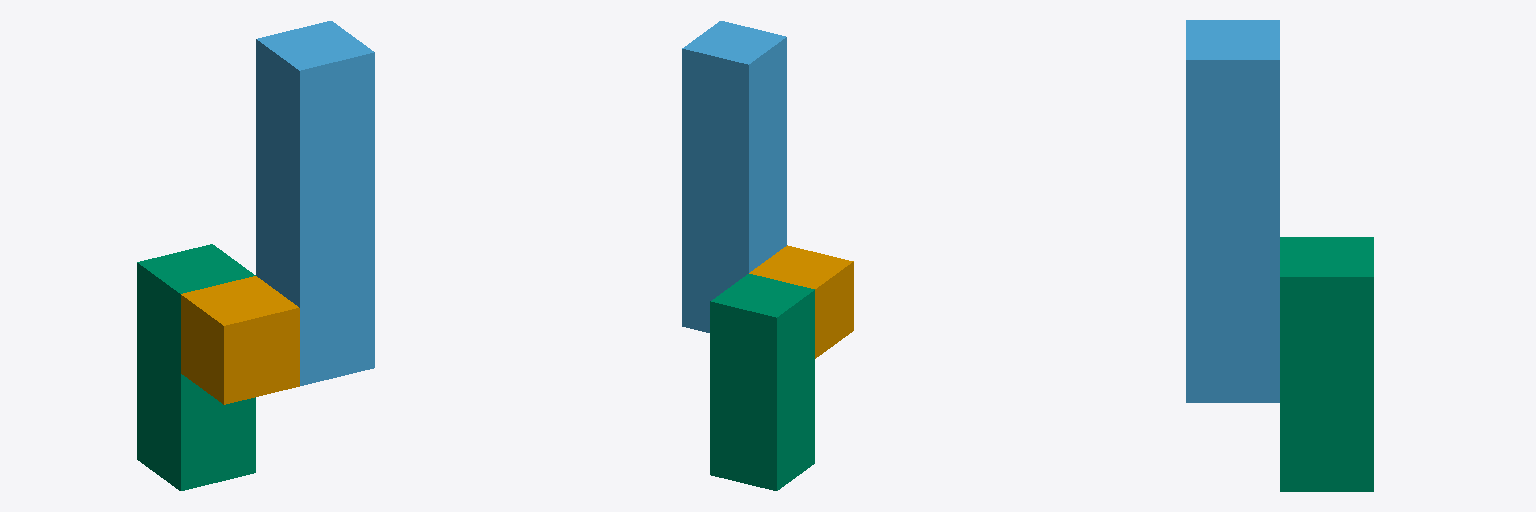
The robot description file, URDF, robot "robot_3angles":
<?xml version="1.0"?>
	<robot name="robot_3angles">

		<!-- lien 1 -->
		<link name="base_link">
			<visual>
				<origin rpy="0 0 0" xyz="0 0 0"/>
				<geometry>
					<box size="0.4 0.4 0.4"/>
			   </geometry>
			</visual>

			<collision>
				<origin rpy="0 0 0" xyz="0 0 0"/>
				<geometry>
					<box size="0.4 0.4 0.4"/>
			   </geometry>
    		</collision>
		</link>
		<!-- fin lien 1 -->

		<!-- lien 2--> 
		<link name="up_link">
			<visual>
				<origin rpy="0 0 0" xyz="0.4 0 0.6"/>
				<geometry>
					<box size="0.4 0.4 1.6"/>
			   </geometry>
			</visual>
			<collision>
				<origin rpy="0 0 0" xyz="0.4 0 0.6"/>
				<geometry>
					<box size="0.4 0.4 1.6"/>
		      </geometry>
	    	</collision>
		</link>
		<!--  fin lien 2 -->

		<!-- lien 3--> 
		<link name="up_link2">
			<visual>
				<origin rpy="0 0 0" xyz="0 0.4 -0.3"/>
				<geometry>
					<box size="0.4 0.4 1"/>
			   </geometry>
			</visual>
			<collision>
				<origin rpy="0 0 0" xyz="0 0.4 -0.3"/>
				<geometry>
					<box size="0.4 0.4 1"/>
		      </geometry>
	    	</collision>
		</link>
		<!--  fin lien 2 -->

   <joint name="base_to_up" type="fixed">
       <parent link="base_link"/>
       <child link="up_link"/>
			<origin xyz="0 0 0"/>
   </joint>

   <joint name="base_to_up2" type="fixed">
       <parent link="base_link"/>
       <child link="up_link2"/>
			<origin xyz="0 0 0"/>
   </joint>

</robot>

--- What the picture shows (computed from the rendered views, not written in the file) ---
Views: 3 orthographic renders of the robot side by side, from view 1: azimuth 30°, elevation 25°; view 2: azimuth 150°, elevation 25°; view 3: azimuth 270°, elevation 25°.
Robot: robot_3angles — 3 links, 2 joints (2 fixed); root link base_link; default pose: all joints at 0.
Visible links, largest first — view 1: up_link, up_link2, base_link; view 2: up_link, up_link2, base_link; view 3: up_link, up_link2.
Link boxes in pixels (box(x1,y1,x2,y2)): up_link: box(256, 21, 374, 385); up_link2: box(137, 244, 255, 490); base_link: box(181, 276, 299, 404); up_link: box(682, 21, 786, 332); up_link2: box(710, 274, 814, 490); base_link: box(749, 245, 853, 358); up_link: box(1186, 20, 1279, 402); up_link2: box(1280, 237, 1373, 491).
Size in the robot's own frame: 0.8 by 0.8 by 2.2 metres.
Geometry: primitives only (box / cylinder / sphere), no mesh files.